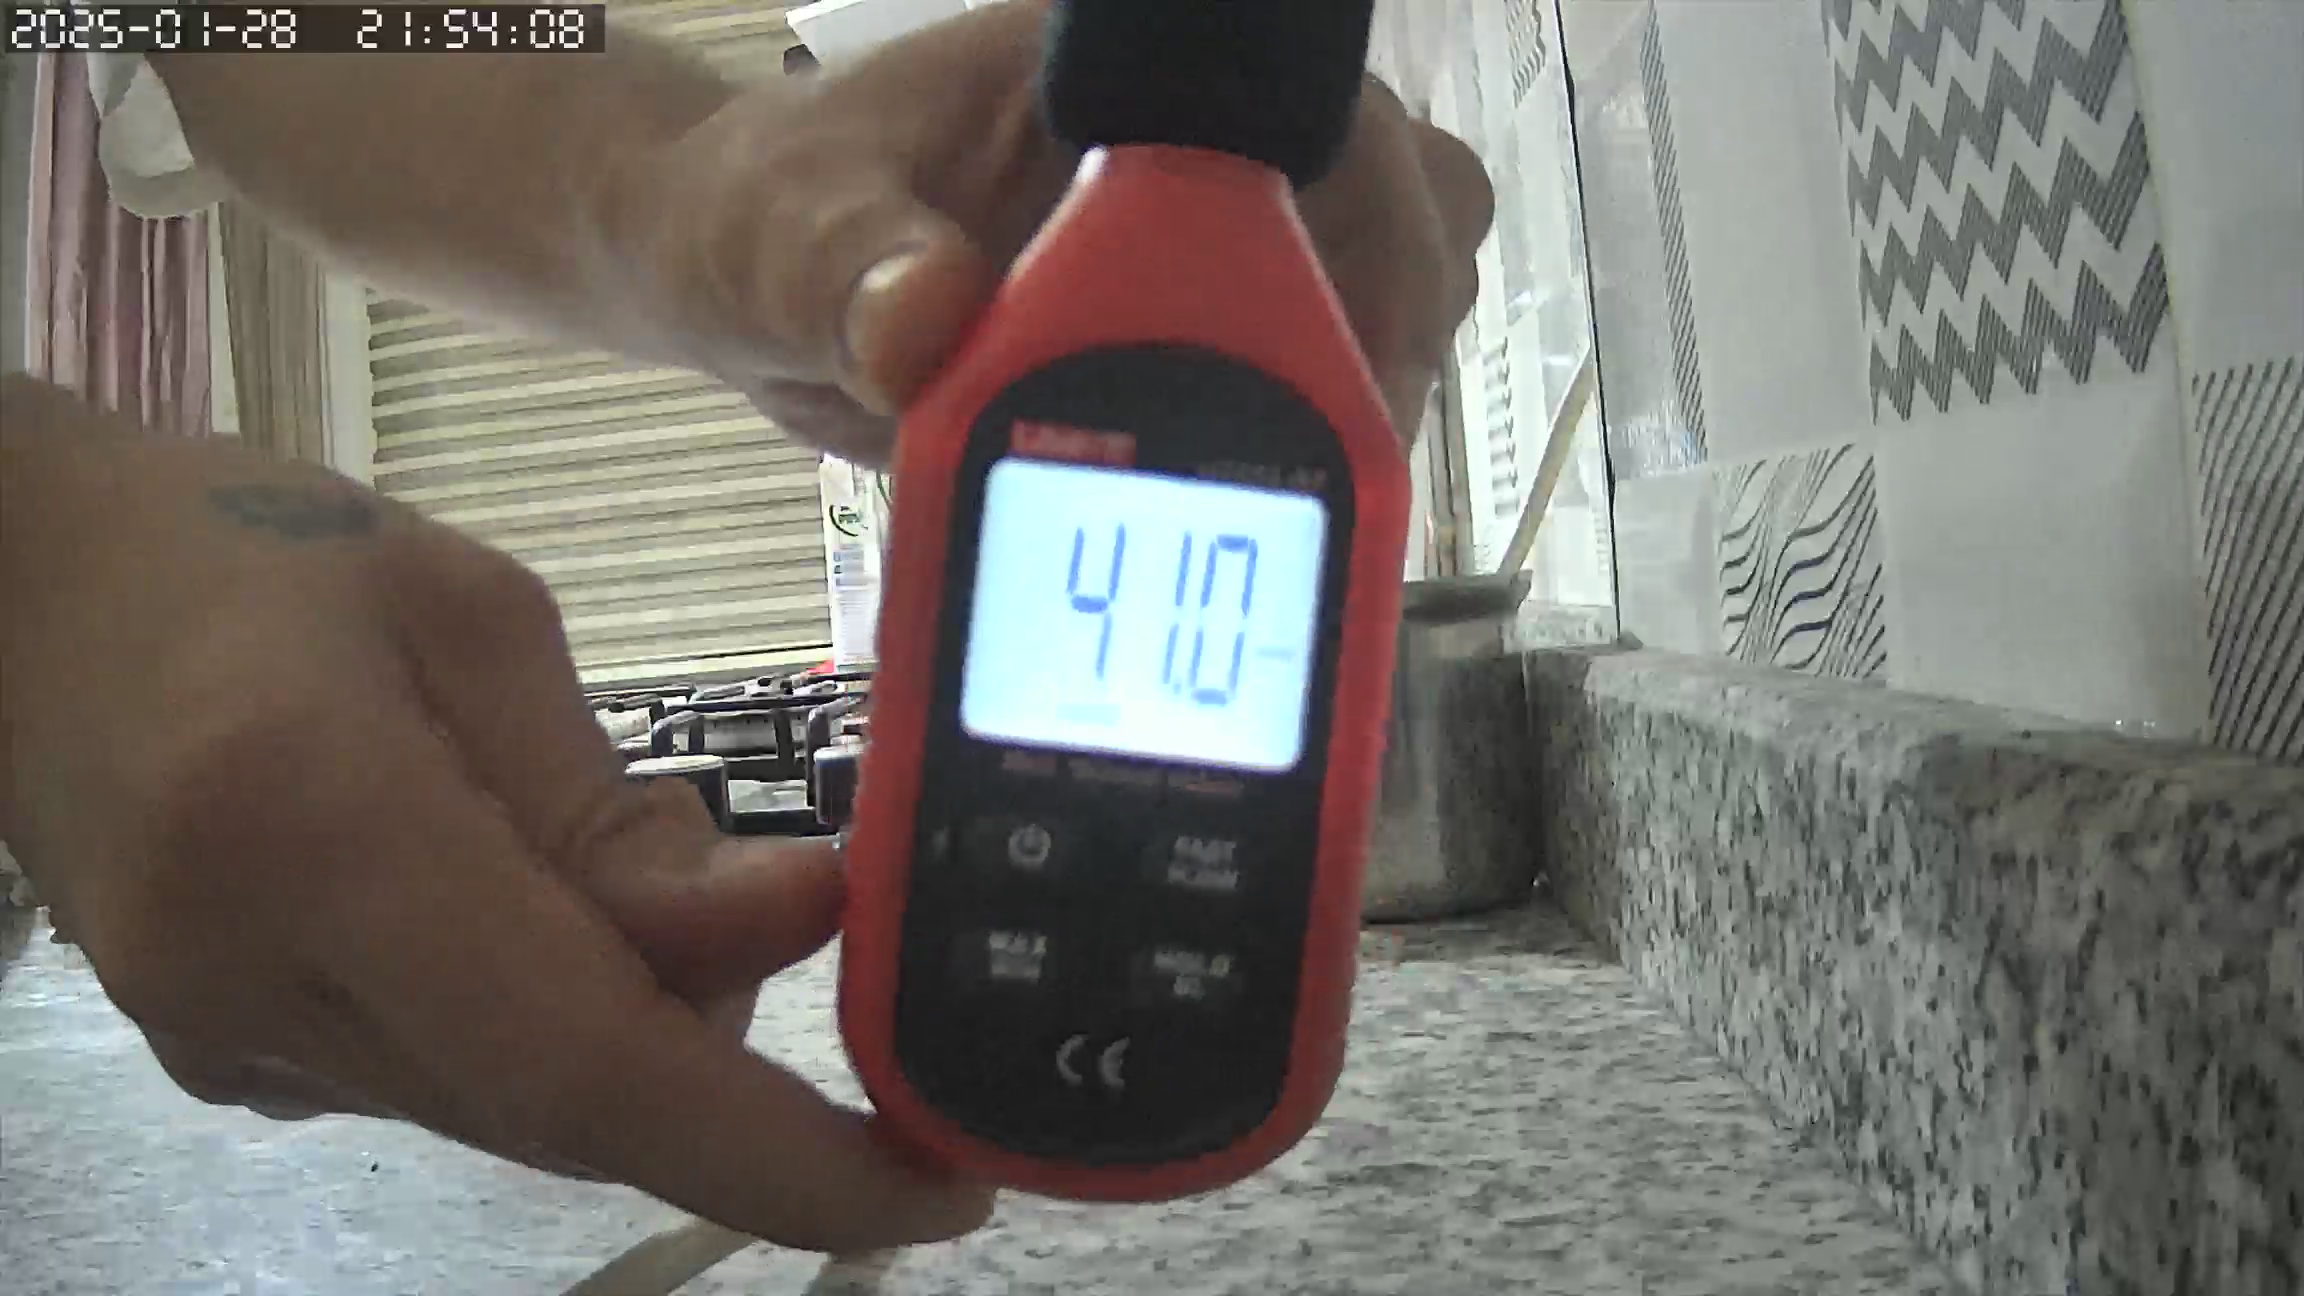screen: (951, 456, 1321, 771)
